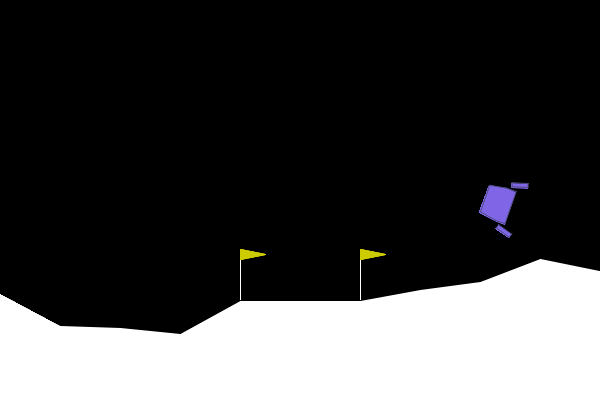lander: (473, 170, 530, 240)
